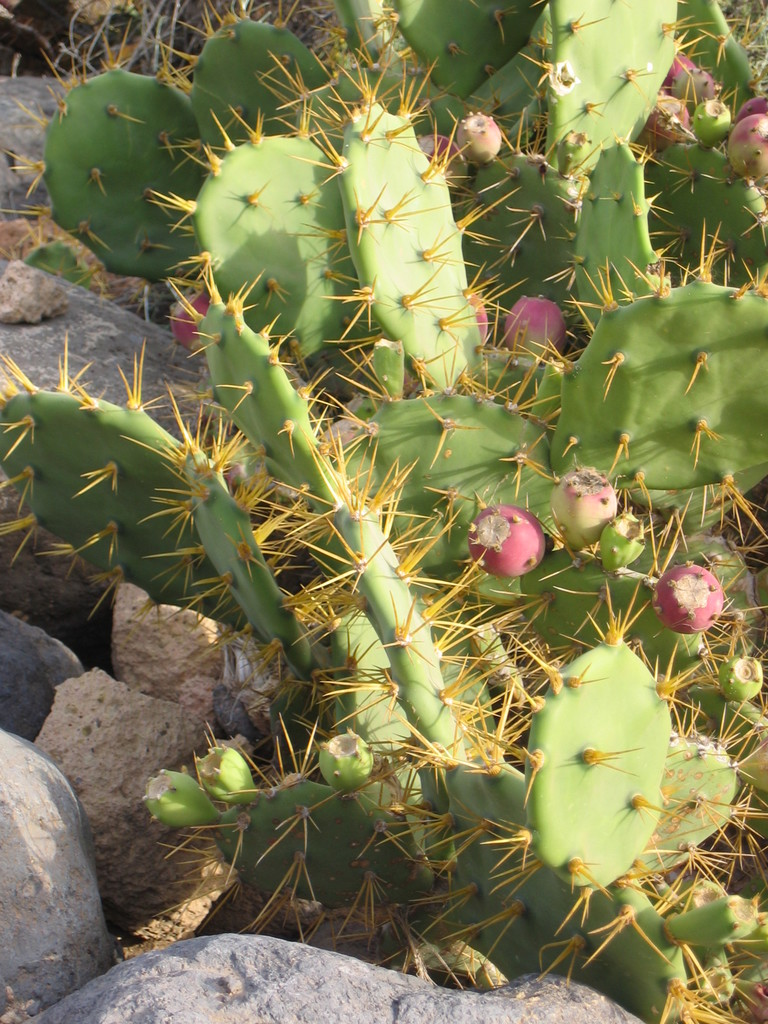person: (340, 90, 495, 397)
